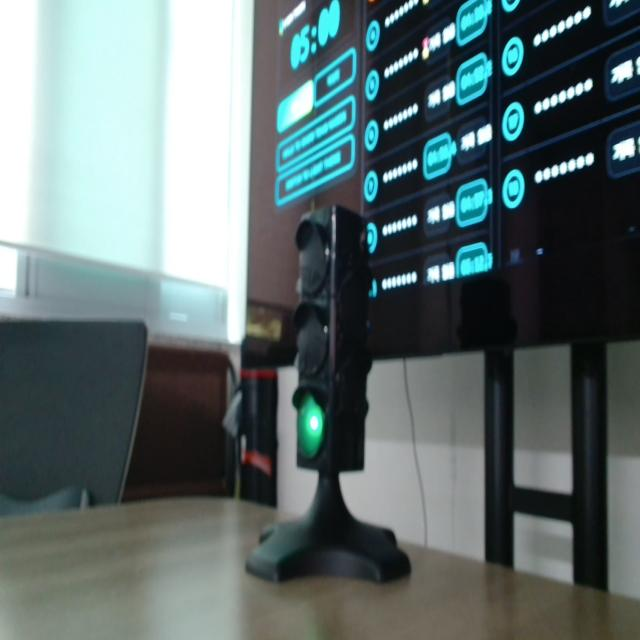green_light: (297, 393, 324, 458)
